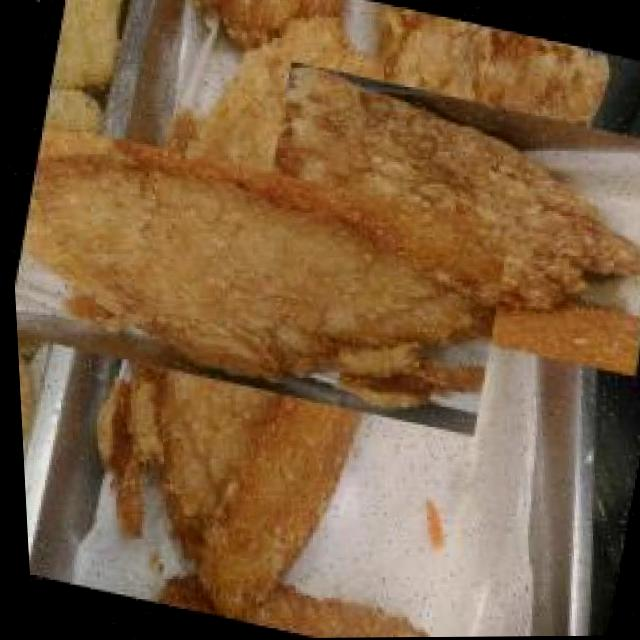chicken_nuggets: (43, 0, 150, 110)
fried_chicken: (2, 45, 458, 501), (263, 31, 640, 408)
